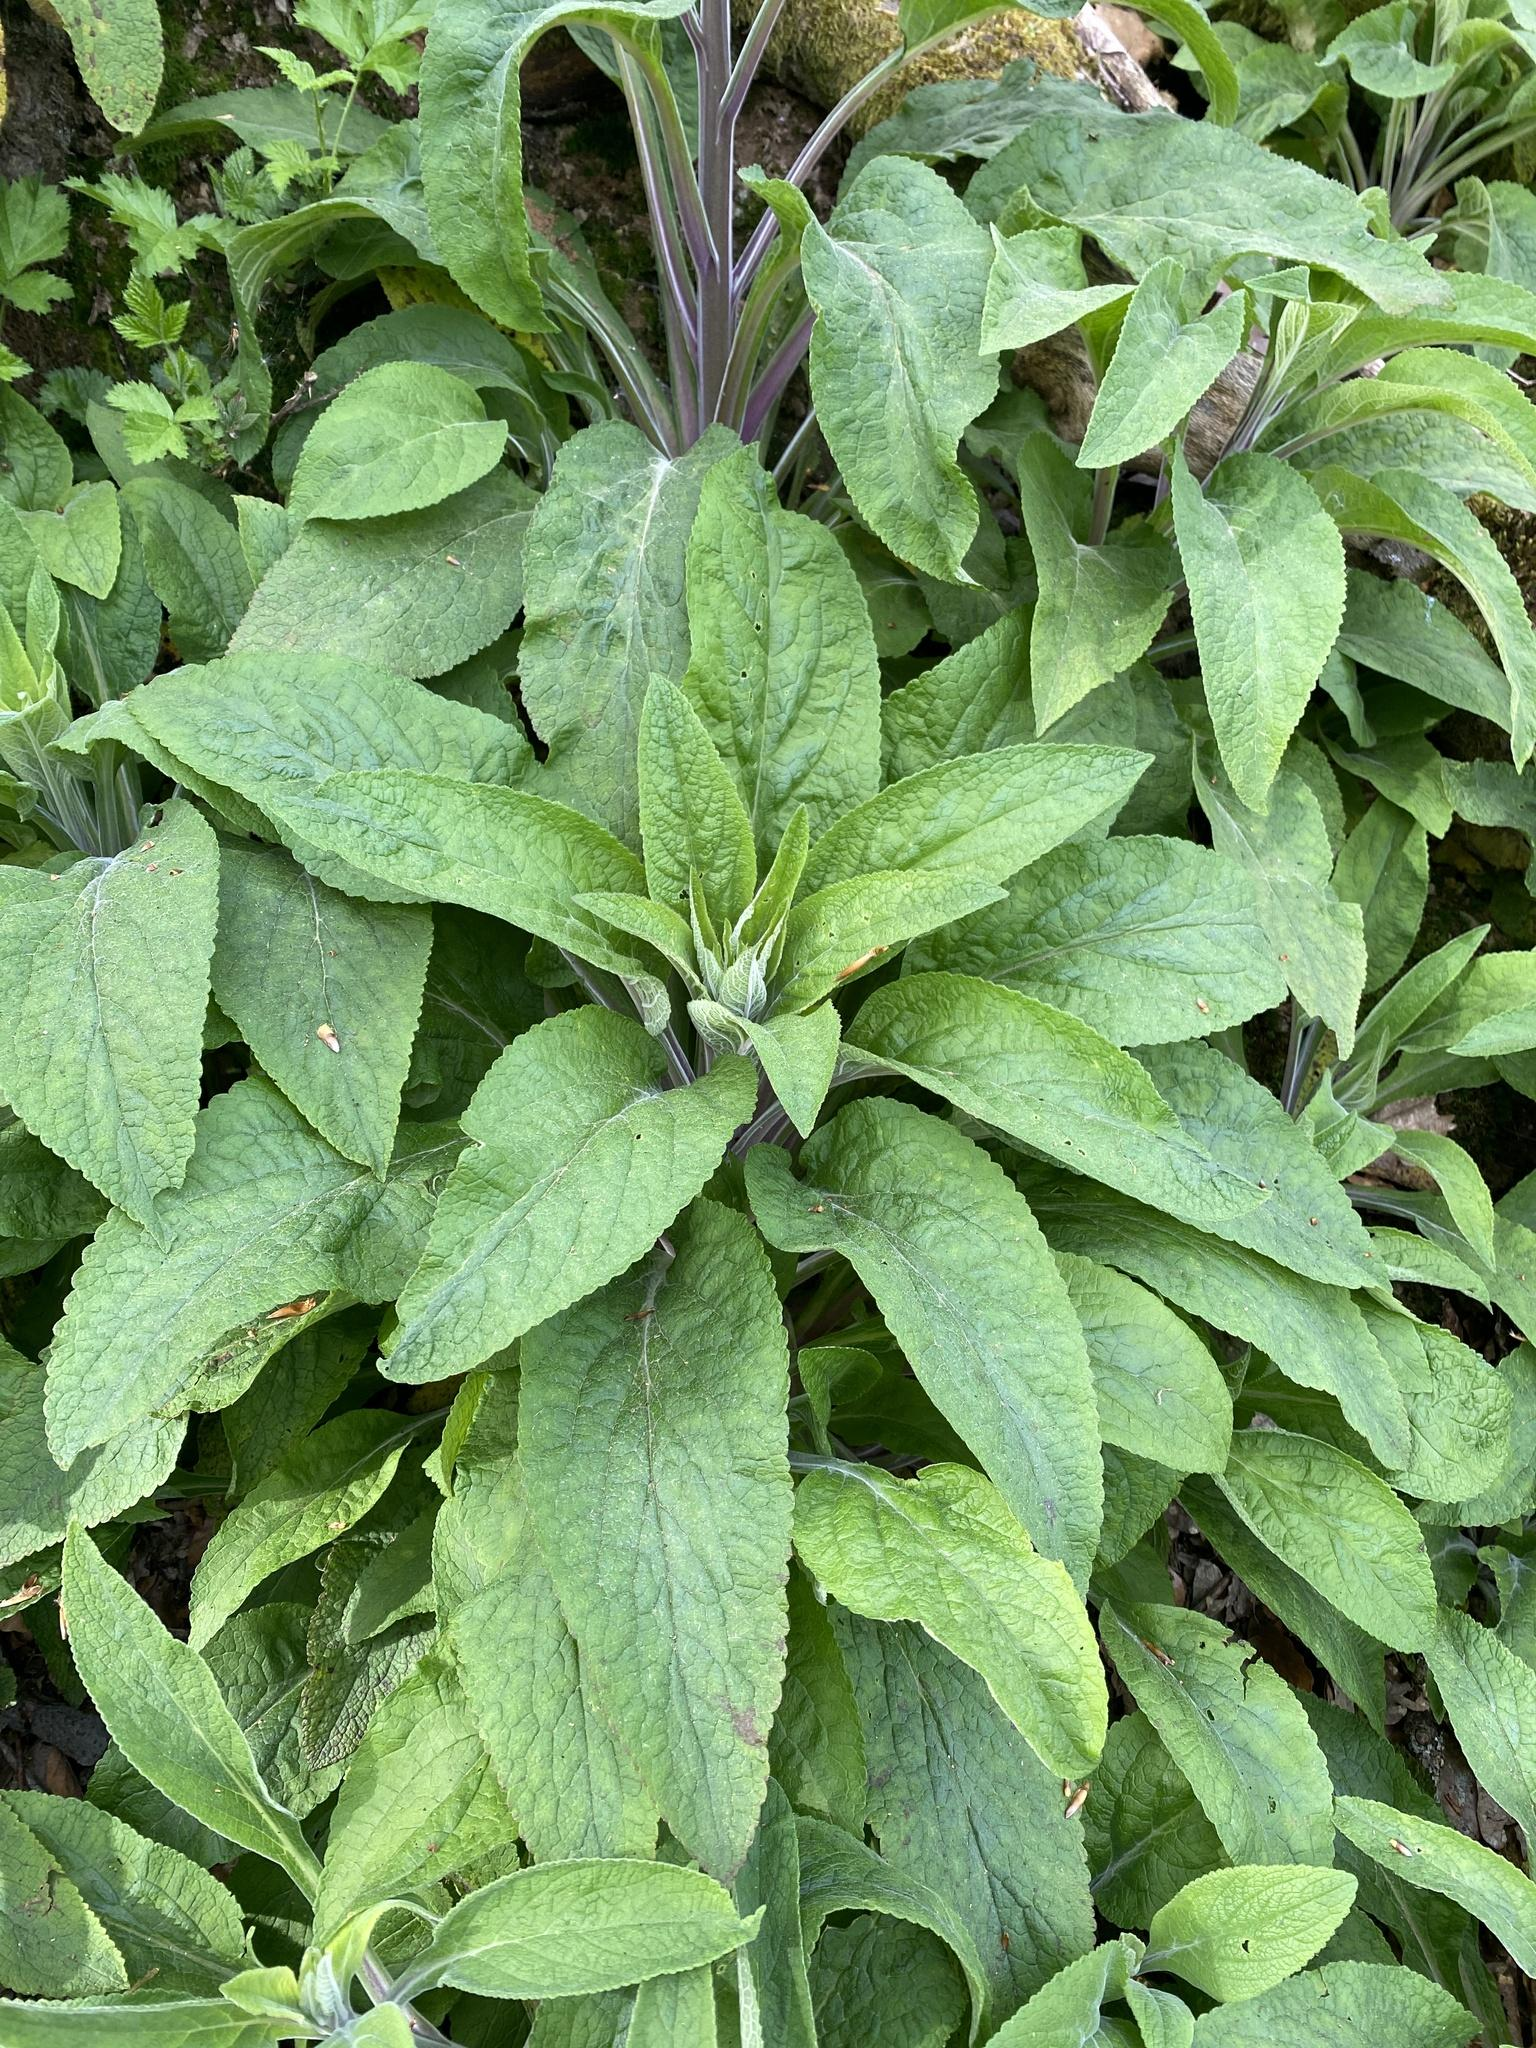Digitalis L: (100, 468, 1392, 1851)
